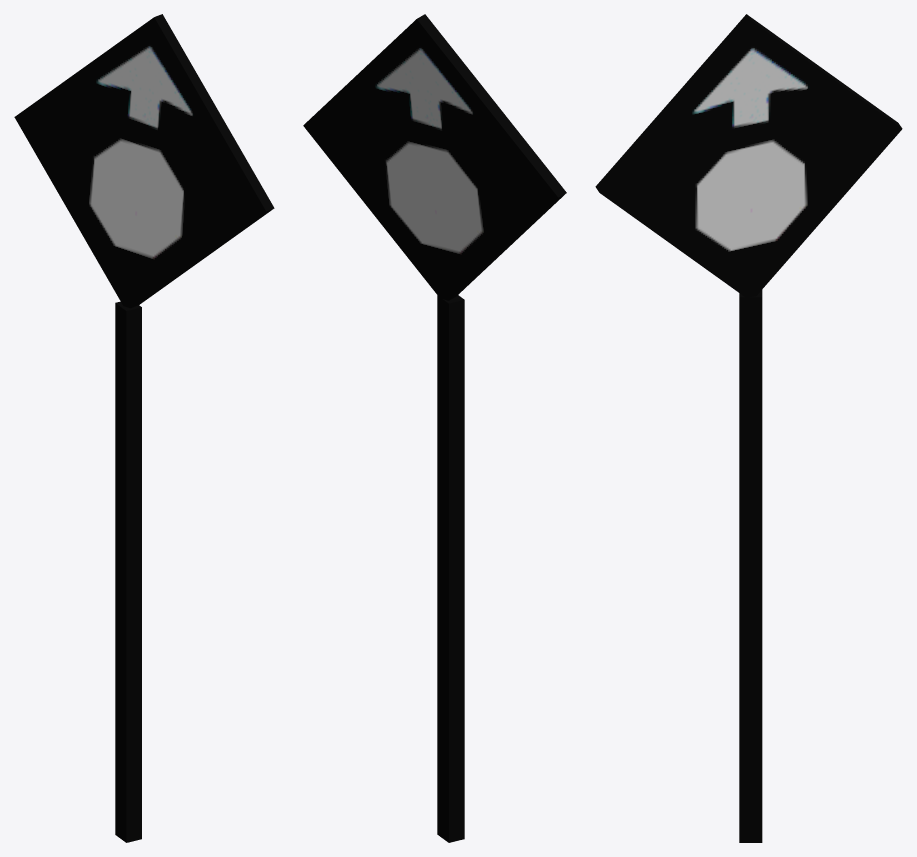
Rendered from sign33.FBX.
3 renders of one model, left to right at view 1: azimuth 30°, elevation 25°; view 2: azimuth 210°, elevation 25°; view 3: azimuth 270°, elevation 25°, orthographic. The views are drawn at different scales.
Visible parts, largest first — view 1: Box002; view 2: Box002; view 3: Box002.
Boxes of the visible parts, bbox=[...] form: Box002: bbox=[14, 14, 274, 842]; Box002: bbox=[303, 14, 566, 842]; Box002: bbox=[595, 14, 902, 842].
Bounding box in the file's own units: 14.65 × 99.69 × 33.17.
